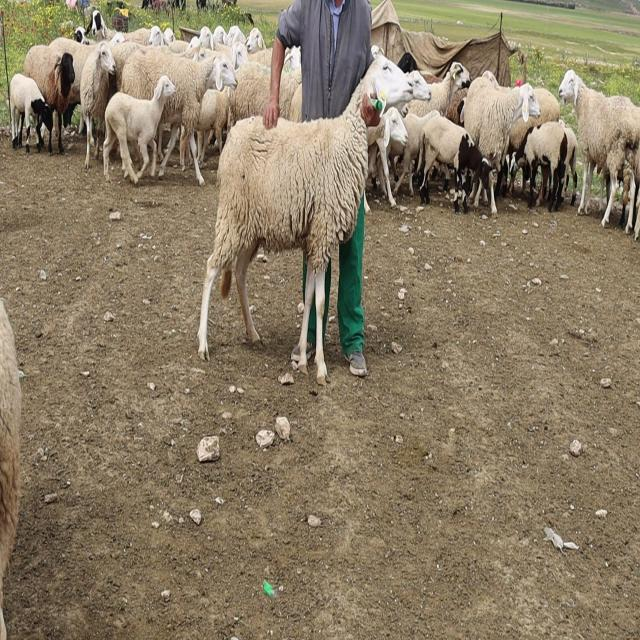Score_1: (198, 55, 413, 383)
